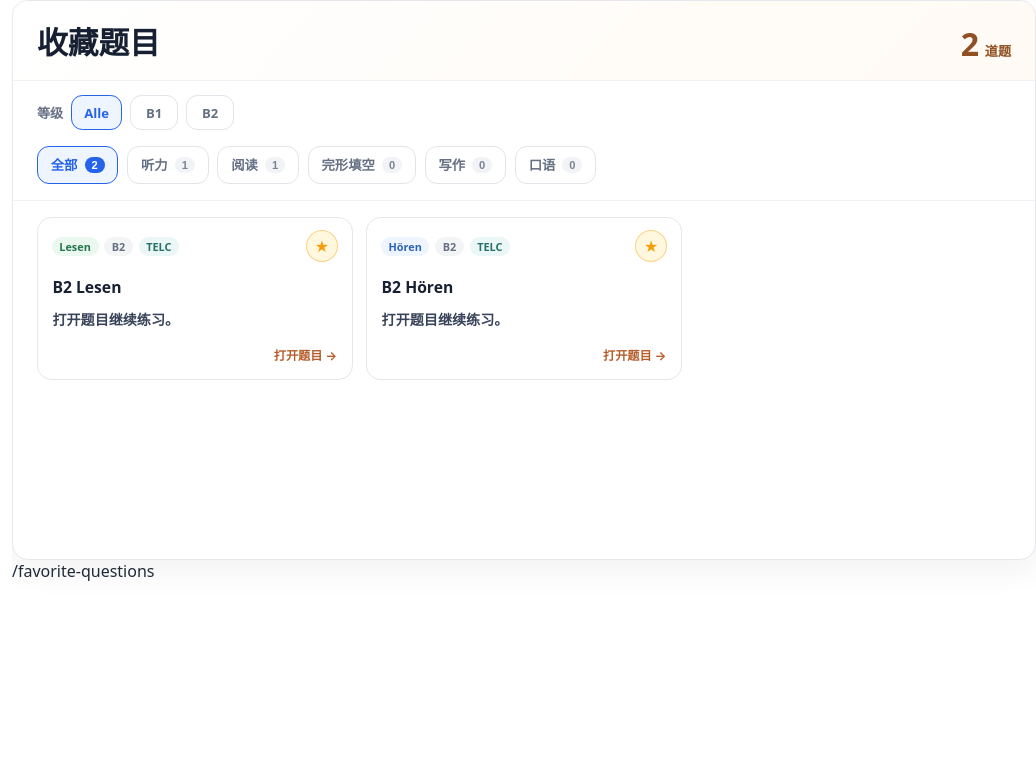
Test: FavoriteQuestionsPage › starts at Alle, reloads by selected level, and keeps skill filtering client-side
Expected: the link "B2 Lesen 打开题目继续练习。 打开题目 →" is shown, x1=38 y1=262 x2=352 y2=379
Click the button "B2" at (210, 112), box x1=186 y1=95 x2=234 y2=130
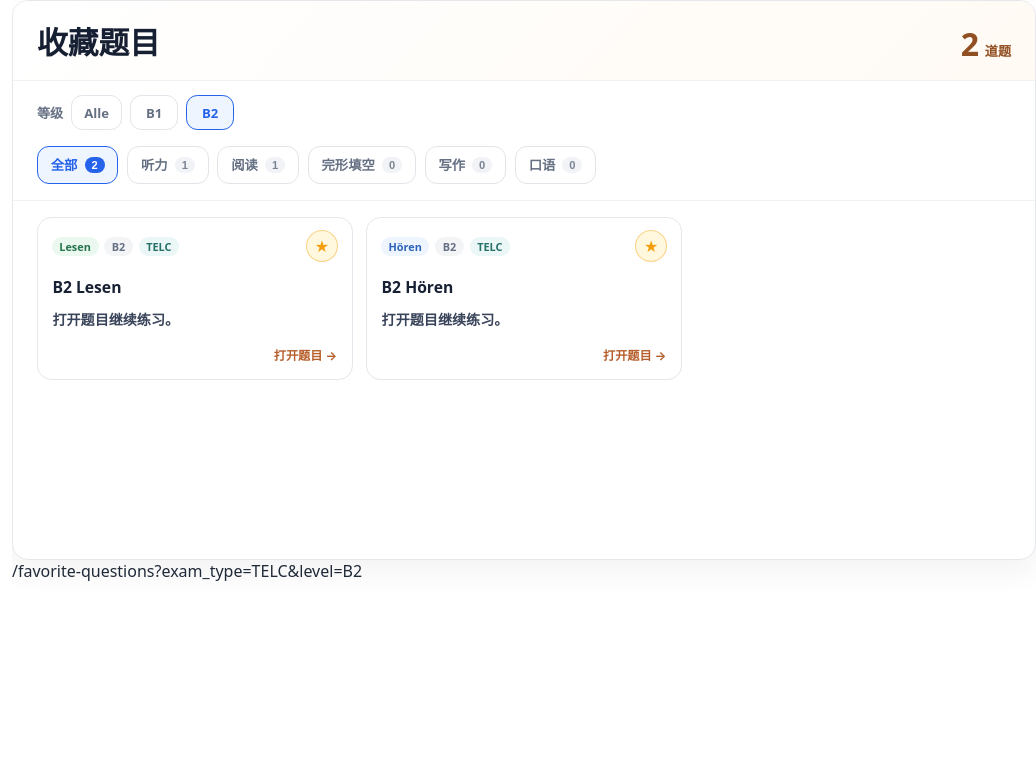
Expected: the link "B2 Hören 打开题目继续练习。 打开题目 →" is shown, x1=367 y1=262 x2=681 y2=379
Click the tab "阅读 1" at (258, 165), box x1=218 y1=146 x2=299 y2=184
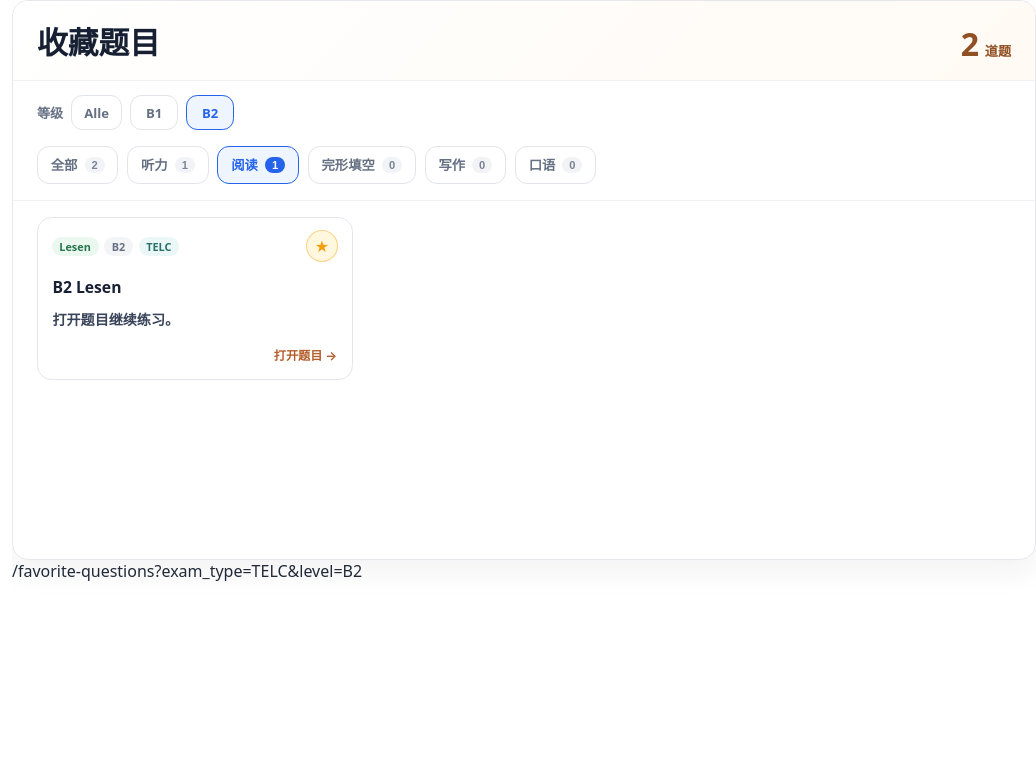
Expected: the text "TELC" is shown, x1=139 y1=237 x2=179 y2=256
Expected: the link "B2 Hören" is gone
Click the tab "口语 0" at (556, 165), box x1=515 y1=146 x2=596 y2=184
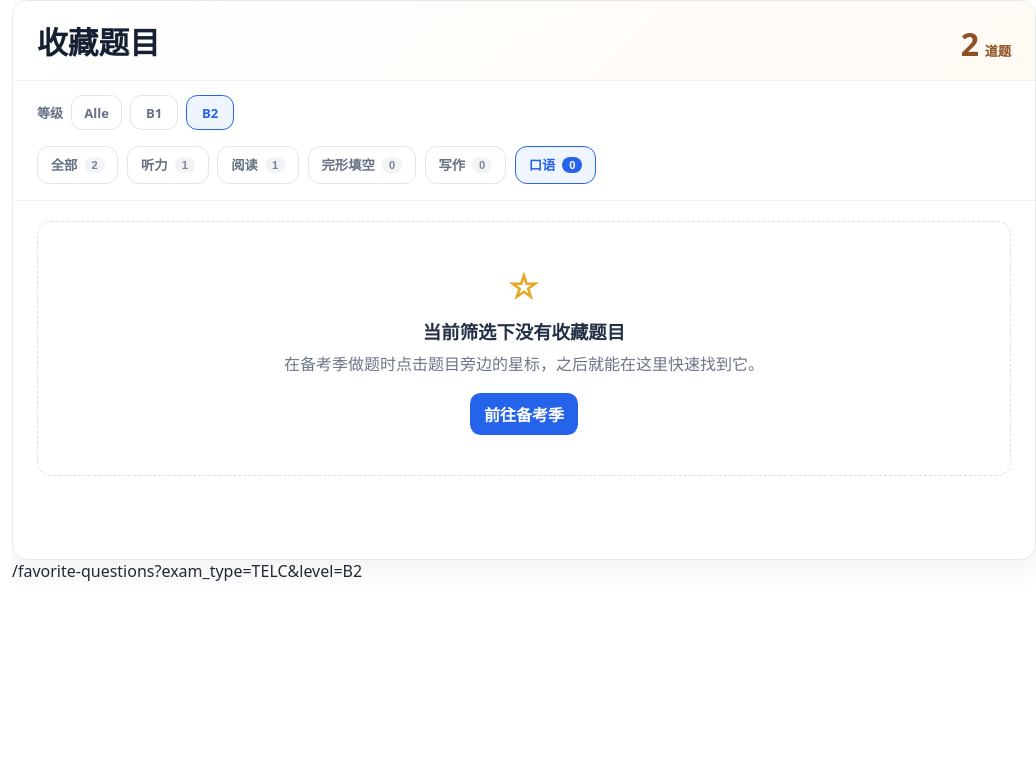
Expected: the heading "当前筛选下没有收藏题目" is shown, x1=423 y1=319 x2=625 y2=344
